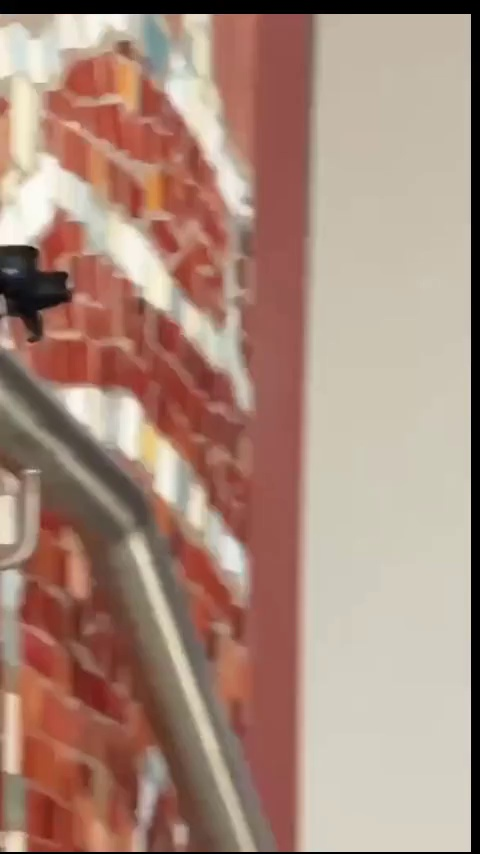drone: (0, 245, 72, 340)
